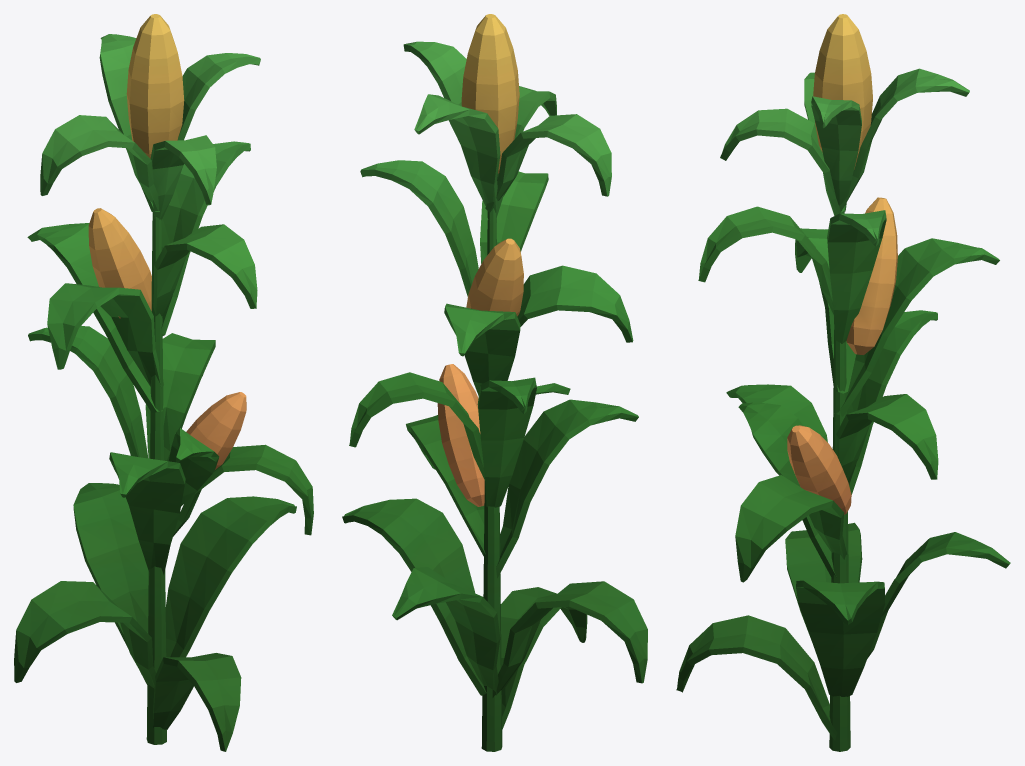
The model's file is crop_corn_stage3.glb.
The picture shows the model from 3 angles, left to right: view 1: azimuth 30°, elevation 25°; view 2: azimuth 150°, elevation 25°; view 3: azimuth 270°, elevation 25°; orthographic projection.
Visible parts, largest first — view 1: crop_corn_stage3; view 2: crop_corn_stage3; view 3: crop_corn_stage3.
Boxes of the visible parts, box(x1,y1,x2,y2) form: crop_corn_stage3: box(14, 14, 313, 751); crop_corn_stage3: box(342, 14, 647, 751); crop_corn_stage3: box(676, 14, 1010, 751).
Bounding box in the file's own units: 0.5633 × 1.35 × 0.5595.
Materials: 1 (1 with a texture image).
